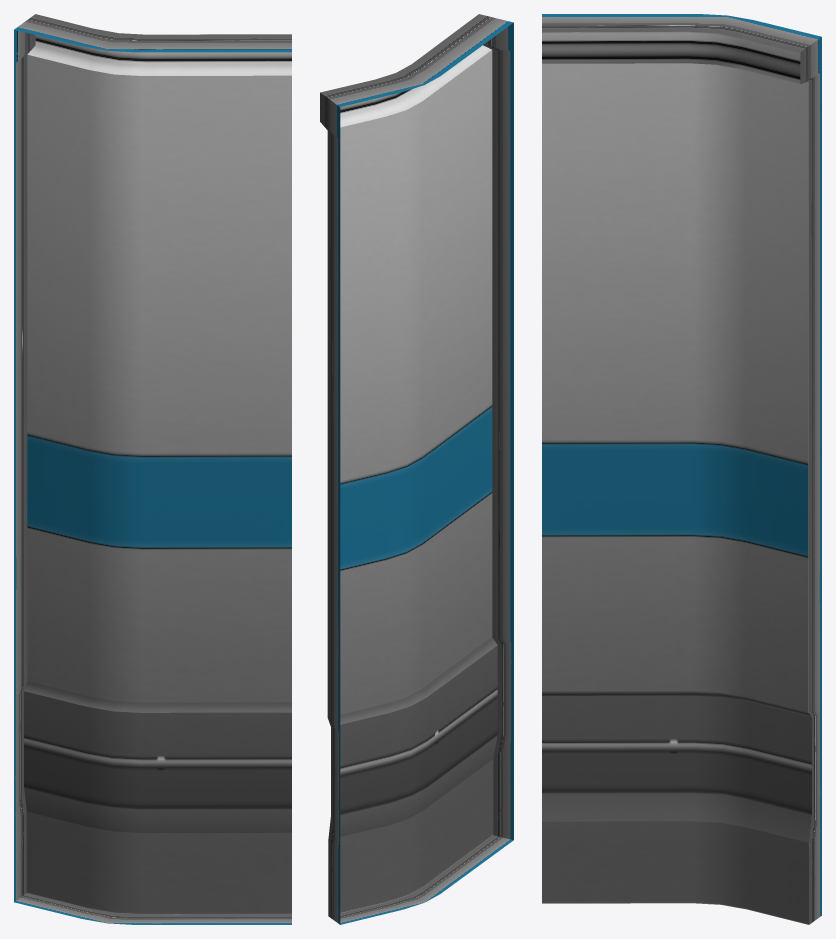
Rendered from XOB_RIN_BB.fbx.
The picture shows the model from 3 angles, left to right: view 1: azimuth 90°, elevation 25°; view 2: azimuth 150°, elevation 25°; view 3: azimuth 270°, elevation 25°; orthographic projection. The views are drawn at different scales.
Parts seen in each view (by area): view 1: XOB_RIN_BB; view 2: XOB_RIN_BB; view 3: XOB_RIN_BB.
Part boxes in pixels (x1,y1,x2,y2): XOB_RIN_BB: [14, 14, 291, 924]; XOB_RIN_BB: [320, 14, 513, 924]; XOB_RIN_BB: [542, 14, 821, 924].
Size of the model in its own units: 0.424 by 4.5 by 1.3.
